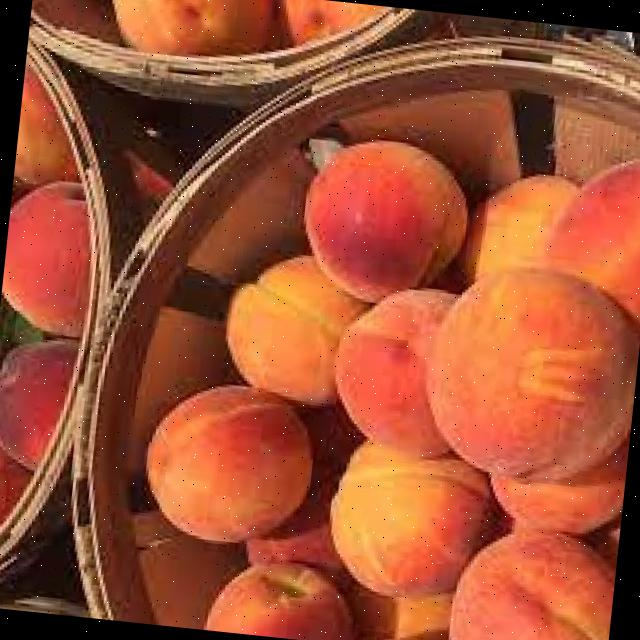peach: (426, 270, 640, 481), (305, 137, 472, 303), (148, 384, 315, 543), (332, 442, 487, 596), (227, 254, 363, 407), (335, 288, 456, 455), (449, 529, 616, 640), (543, 161, 640, 323), (1, 179, 91, 336), (205, 559, 360, 640), (0, 342, 77, 468)
